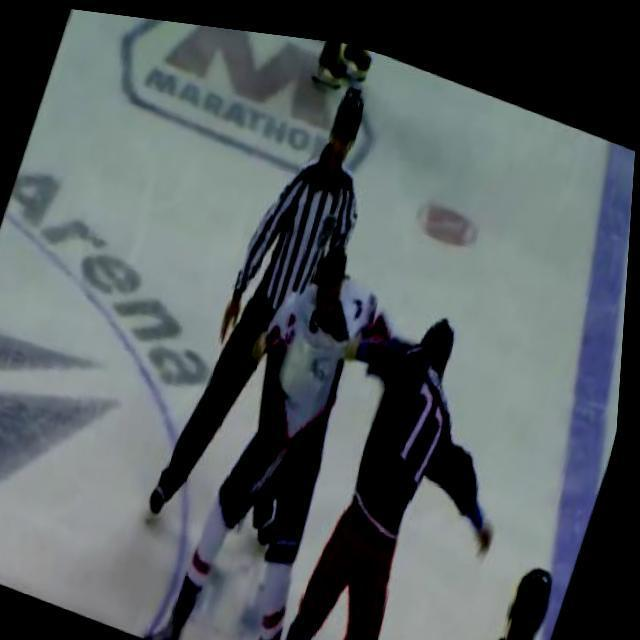fight: (165, 201, 570, 640)
